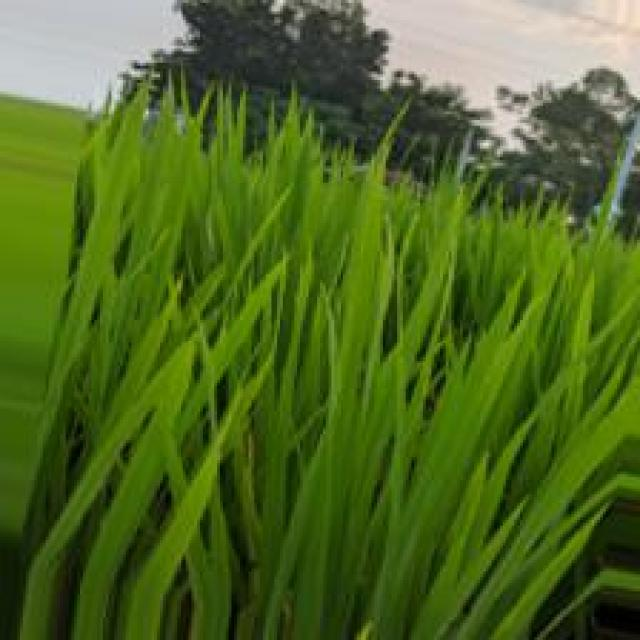HealthyLeaf: (369, 268, 547, 640), (285, 166, 382, 636)
